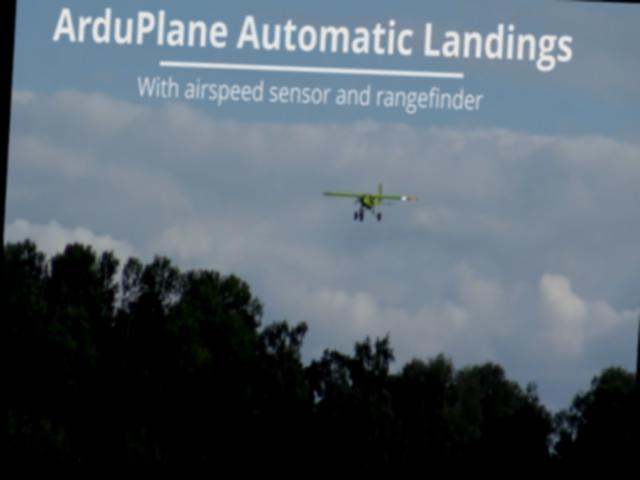plane: (319, 182, 418, 229)
